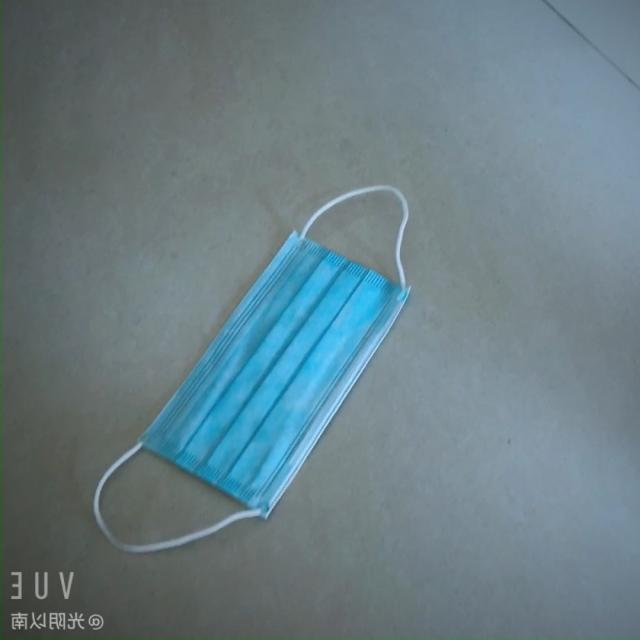face mask: (119, 227, 430, 530)
